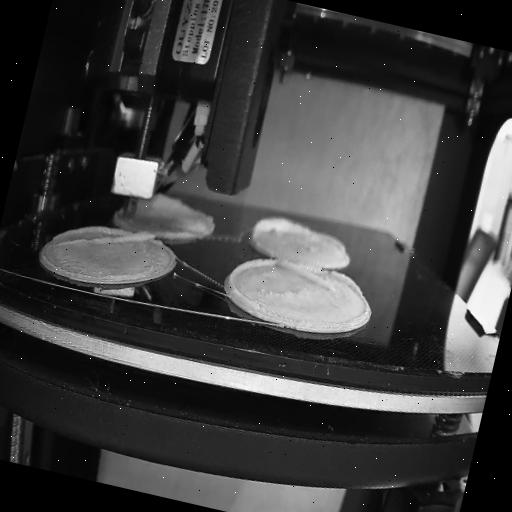over_extrusion: (58, 212, 158, 269), (272, 257, 366, 301), (222, 250, 274, 310), (245, 209, 310, 256), (138, 188, 194, 222), (318, 232, 349, 254)
